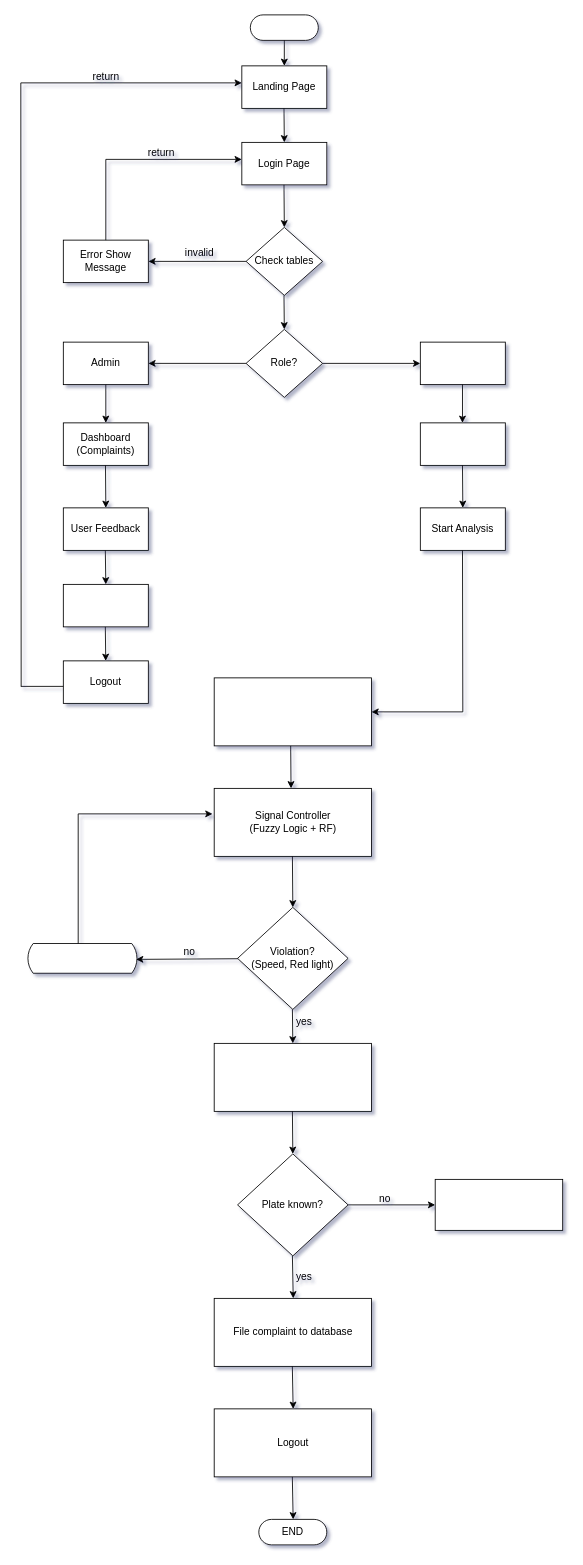
Image size: 583x1565. Some labels were removed from this diagram. The shapes that lost their labels are listed below. From the top down, each one's box as (x1, y1, x2, y2) in pixels, then its label:
(249, 14, 318, 40): START
(419, 341, 505, 385): User
(419, 422, 505, 465): Upload Videos
(62, 584, 148, 627): User Management
(213, 677, 371, 746): YOLO + DeepSort (Detect & Track Vehicles)
(26, 943, 138, 973): Continue loop
(213, 1043, 371, 1111): ANPR (Read plate number)
(434, 1179, 563, 1230): Skip
